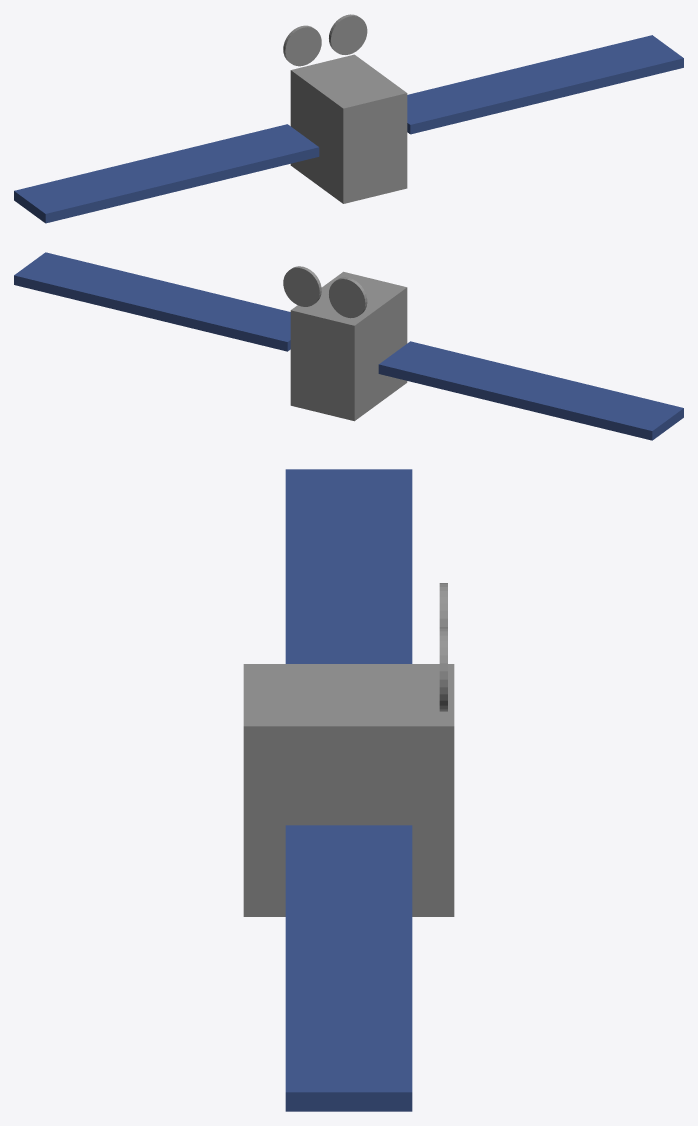
3 views of the same model, one above another, from view 1: azimuth 30°, elevation 25°; view 2: azimuth 150°, elevation 25°; view 3: azimuth 270°, elevation 25° (orthographic). The views are drawn at different scales.
Visible parts, largest first — view 1: Cube, Cube.002, Cube.001, Cylinder.001, Cylinder; view 2: Cube, Cube.002, Cube.001, Cylinder.001, Cylinder; view 3: Cube, Cube.001, Cube.002.
Boxes of the visible parts, <box> form: Cube: <box>290,54,407,203</box>; Cube.002: <box>14,124,319,223</box>; Cube.001: <box>407,35,683,134</box>; Cylinder.001: <box>283,25,321,66</box>; Cylinder: <box>329,14,367,54</box>; Cube: <box>290,271,407,421</box>; Cube.002: <box>378,341,683,440</box>; Cube.001: <box>14,252,290,351</box>; Cylinder.001: <box>329,277,367,318</box>; Cylinder: <box>283,266,321,306</box>; Cube: <box>243,664,454,916</box>; Cube.001: <box>285,825,412,1111</box>; Cube.002: <box>285,469,412,663</box>.
Bounding box in the file's own units: 14 × 2.9 × 2.
